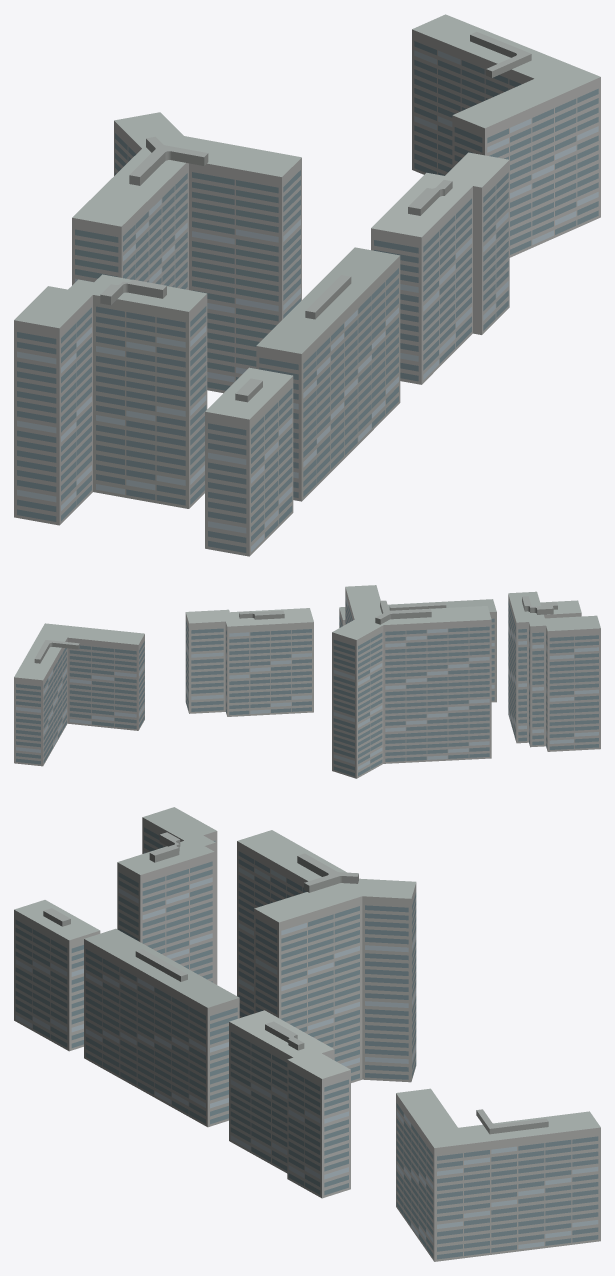
The model's file is apt-a15288002.glb.
3 renders of one model, top to bottom at view 1: azimuth 30°, elevation 25°; view 2: azimuth 150°, elevation 25°; view 3: azimuth 270°, elevation 25°, orthographic. The views are drawn at different scales.
Parts seen in each view (by area): view 1: apt-a15288002; view 2: apt-a15288002; view 3: apt-a15288002.
Boxes of the visible parts, x1,y1,x2,y2 form: apt-a15288002: (14,14,600,556); apt-a15288002: (14,585,600,778); apt-a15288002: (14,807,600,1261).
Bounding box in the file's own units: 213 × 64 × 179.
